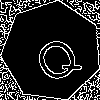Q: (26, 26, 85, 88)
